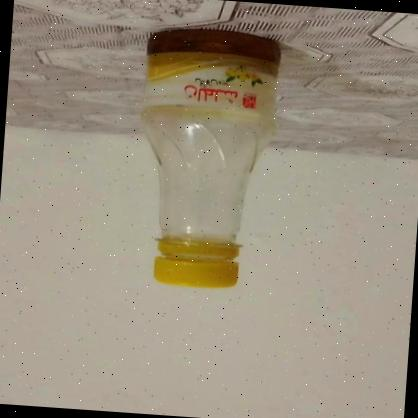bottle: (119, 26, 300, 308)
cap: (146, 233, 242, 293)
label: (142, 33, 280, 130)
